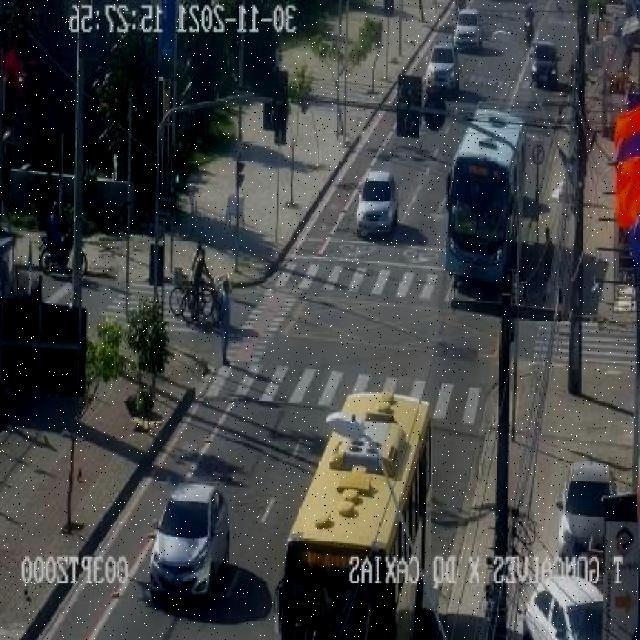Bus: (285, 392, 434, 640), (444, 110, 530, 284)
Car: (146, 477, 229, 602), (354, 171, 400, 233), (423, 42, 460, 98), (528, 43, 560, 84), (452, 7, 481, 50)
Cycle: (522, 7, 538, 45)
